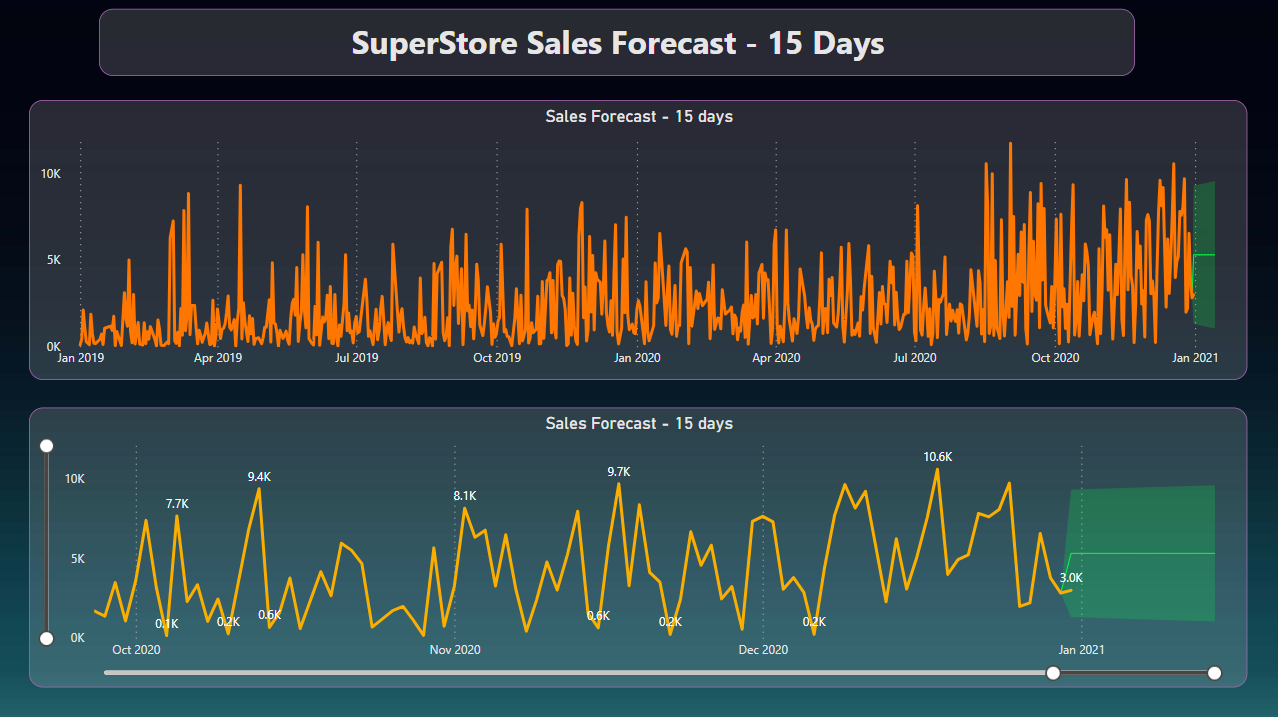

What the dashboard file says about the page in this screenshot:
{"tool":"powerbi","page":{"name":"Page 2","canvas":[1280,720],"ordinal":1},"visuals":[{"type":"lineChart","title":"Sales Forecast - 15 days","fields":{"Y":["Sum(SuperStore_Sales_Dataset.Sales)"],"Category":["SuperStore_Sales_Dataset.Order Date"]},"box":[30,100,1218.8,280],"z":0},{"type":"lineChart","title":"Sales Forecast - 15 days","fields":{"Y":["Sum(SuperStore_Sales_Dataset.Sales)"],"Category":["SuperStore_Sales_Dataset.Order Date"]},"box":[30,407.5,1218.8,280],"z":1},{"type":"textbox","box":[100,8.8,1036.2,67.5],"z":2}]}

Visuals, with their boxes in screenshot pixels (x1, y1, x2, y2), scaled from the page's 1280x720 canvas onto the 1278x717 screenshot:
"Sales Forecast - 15 days" lineChart: (30,100,1247,378)
"Sales Forecast - 15 days" lineChart: (30,406,1247,685)
textbox: (100,9,1134,76)
